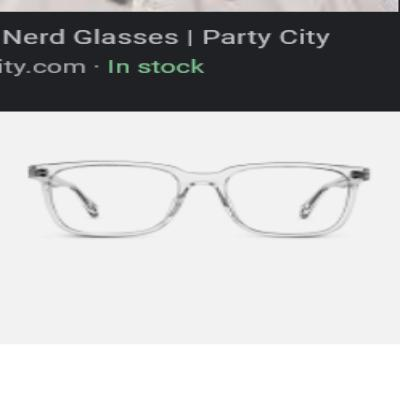glasses: (23, 151, 379, 248)
